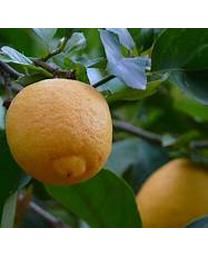lemon: (7, 79, 113, 187)
